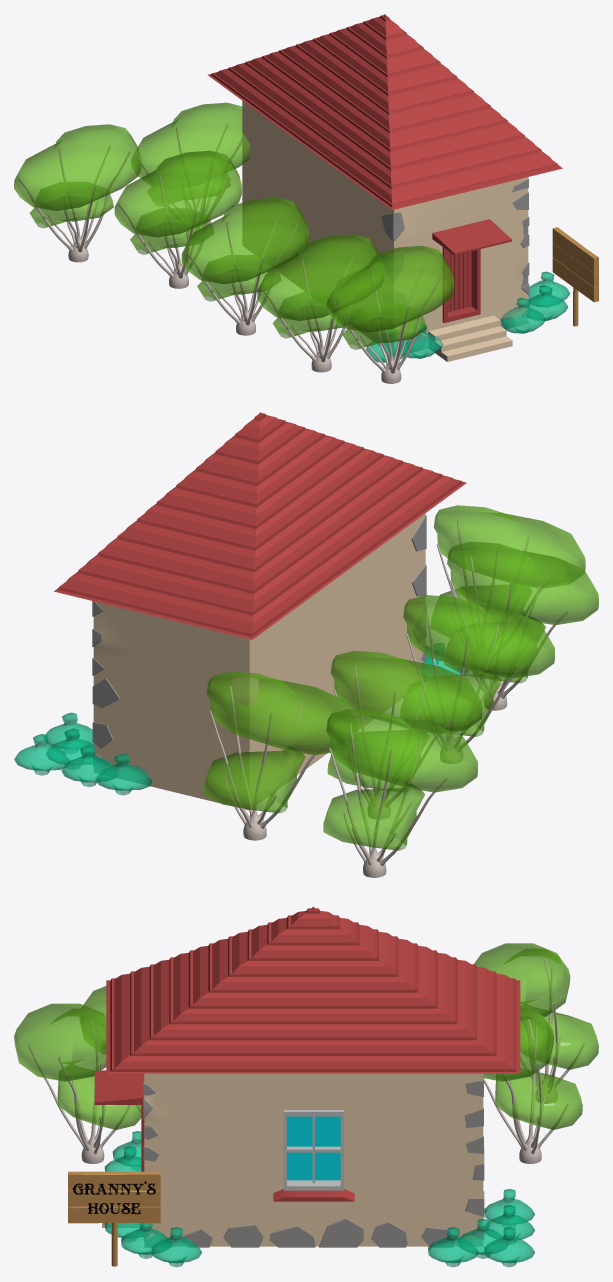
Rendered from GrannysHouse.fbx.
3 views of the same model, one above another, from view 1: azimuth 30°, elevation 25°; view 2: azimuth 150°, elevation 25°; view 3: azimuth 270°, elevation 25° (orthographic). The views are drawn at different scales.
Visible parts, largest first — view 1: Box001, Foliage012, Foliage016, Foliage014, Foliage015, Foliage013, Foliage011, Box002, Foliage006, Foliage003, Foliage002, Foliage007 (+1 smaller); view 2: Box001, Foliage016, Foliage011, Foliage014, Foliage013, Foliage015, Foliage012, Foliage010, Foliage009, Foliage004, Foliage005, Foliage001 (+1 smaller); view 3: Box001, Foliage012, Foliage016, Foliage011, Box002, Foliage003, Foliage005, Foliage013, Foliage004, Foliage001, Foliage002, Foliage010 (+5 smaller).
Part boxes in pixels (left/top/right/bottom): Box001: left=208, top=14, right=562, bottom=361; Foliage012: left=326, top=245, right=454, bottom=383; Foliage016: left=14, top=124, right=141, bottom=262; Foliage014: left=181, top=197, right=308, bottom=335; Foliage015: left=114, top=150, right=241, bottom=288; Foliage013: left=257, top=234, right=384, bottom=372; Foliage011: left=131, top=102, right=250, bottom=237; Box002: left=552, top=227, right=598, bottom=326; Foliage006: left=500, top=298, right=545, bottom=333; Foliage003: left=528, top=271, right=569, bottom=307; Foliage002: left=527, top=285, right=568, bottom=320; Foliage007: left=400, top=324, right=442, bottom=358; Box001: left=54, top=412, right=466, bottom=810; Foliage016: left=323, top=709, right=477, bottom=877; Foliage011: left=203, top=671, right=357, bottom=840; Foliage014: left=401, top=595, right=554, bottom=763; Foliage013: left=444, top=541, right=598, bottom=710; Foliage015: left=327, top=650, right=482, bottom=819; Foliage012: left=431, top=505, right=585, bottom=673; Foliage010: left=95, top=753, right=152, bottom=795; Foliage009: left=61, top=745, right=117, bottom=786; Foliage004: left=14, top=734, right=70, bottom=775; Foliage005: left=44, top=712, right=93, bottom=751; Foliage001: left=46, top=728, right=93, bottom=767; Box001: left=94, top=906, right=520, bottom=1247; Foliage012: left=14, top=1003, right=141, bottom=1163; Foliage016: left=474, top=943, right=598, bottom=1103; Foliage011: left=483, top=1005, right=582, bottom=1163; Box002: left=68, top=1171, right=160, bottom=1266; Foliage003: left=151, top=1227, right=202, bottom=1267; Foliage005: left=428, top=1227, right=478, bottom=1267; Foliage013: left=79, top=986, right=140, bottom=1111; Foliage004: left=484, top=1227, right=534, bottom=1267; Foliage001: left=458, top=1218, right=508, bottom=1258; Foliage002: left=121, top=1223, right=171, bottom=1258; Foliage010: left=484, top=1189, right=534, bottom=1226.
Bounding box in the file's own units: 151 × 99.1 × 173.
